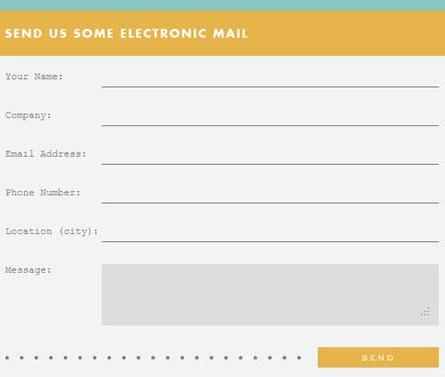button: (318, 347, 440, 368)
field: (99, 262, 439, 325)
field_line: (96, 104, 439, 127), (99, 181, 440, 204), (97, 220, 440, 242), (99, 67, 441, 89), (96, 146, 442, 165)
field_line_with_label: (5, 260, 442, 327), (6, 179, 443, 206), (5, 64, 444, 90), (5, 218, 442, 244), (6, 102, 442, 128), (5, 143, 444, 168)
